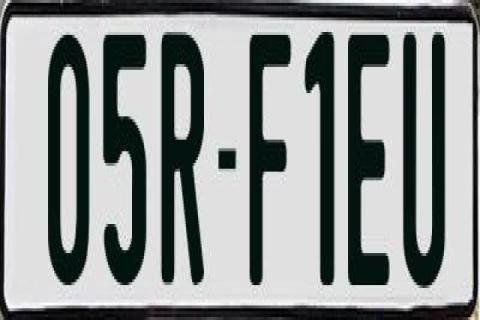0: (103, 32, 154, 300), (46, 26, 86, 276), (302, 23, 334, 285)
E: (346, 35, 390, 285)
F: (248, 32, 290, 288)
R: (158, 23, 204, 291)
U: (402, 24, 444, 282)
